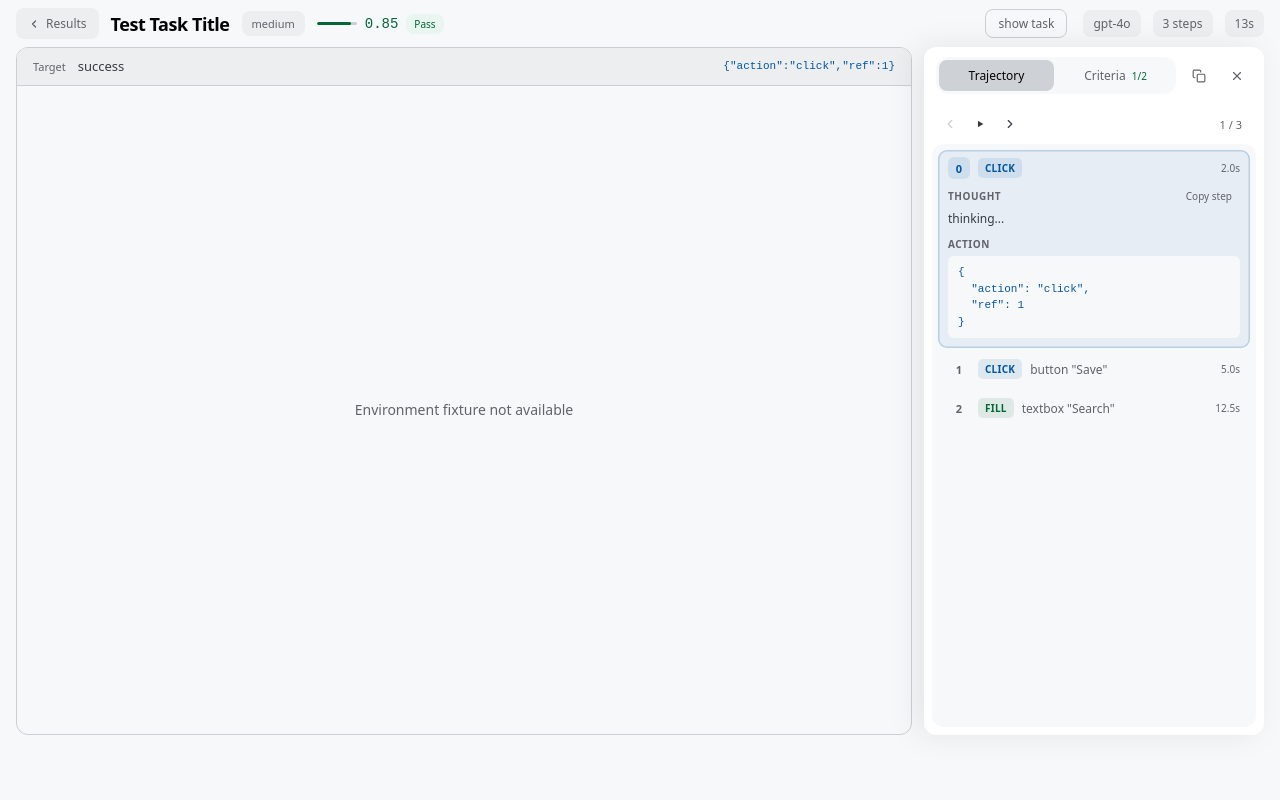
Scenario: Step navigation (category 5) › switches to Trajectory tab on step change
Expected: the button "Trajectory" is shown, [939, 60, 1054, 91]
Note: Switch to Criteria tab
Click the button "Criteria1/2" at [1116, 76], box [1058, 60, 1173, 91]
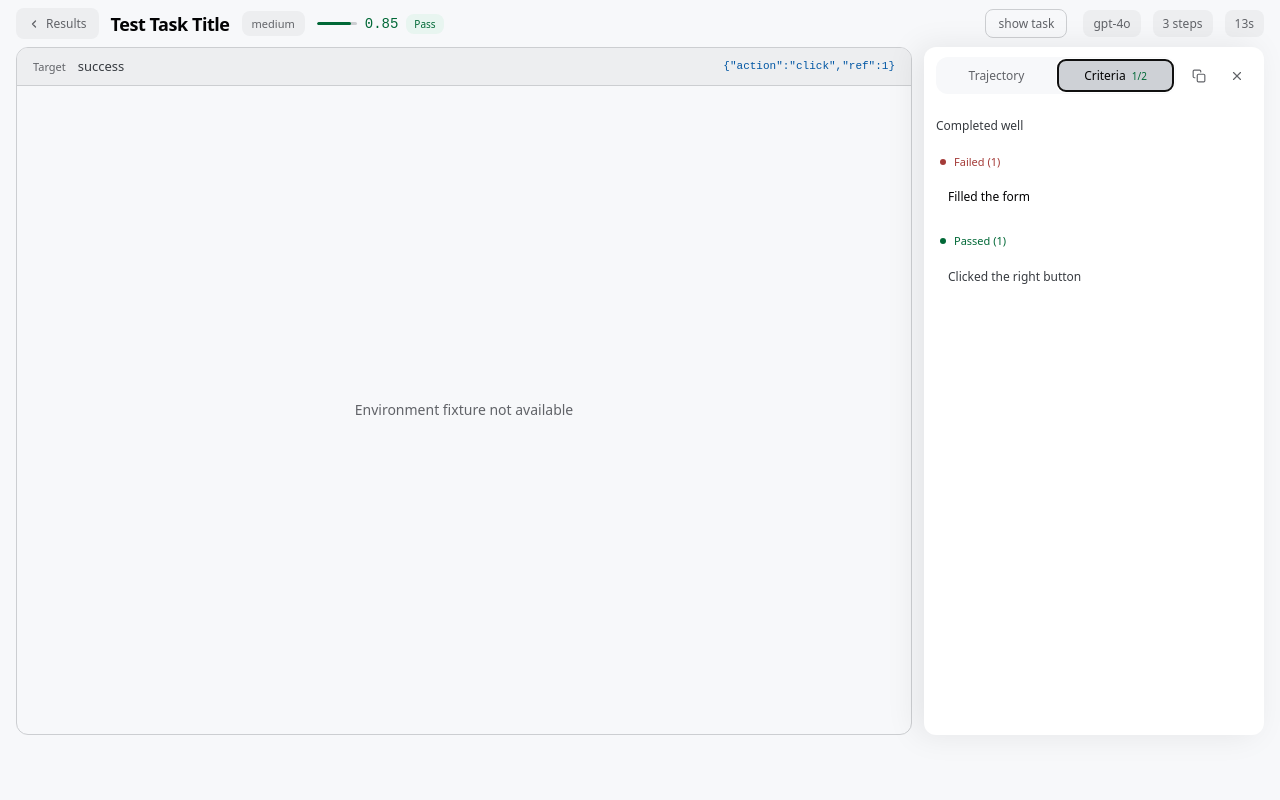
Result: the text "Completed well" is shown at [936, 117, 1023, 134]
